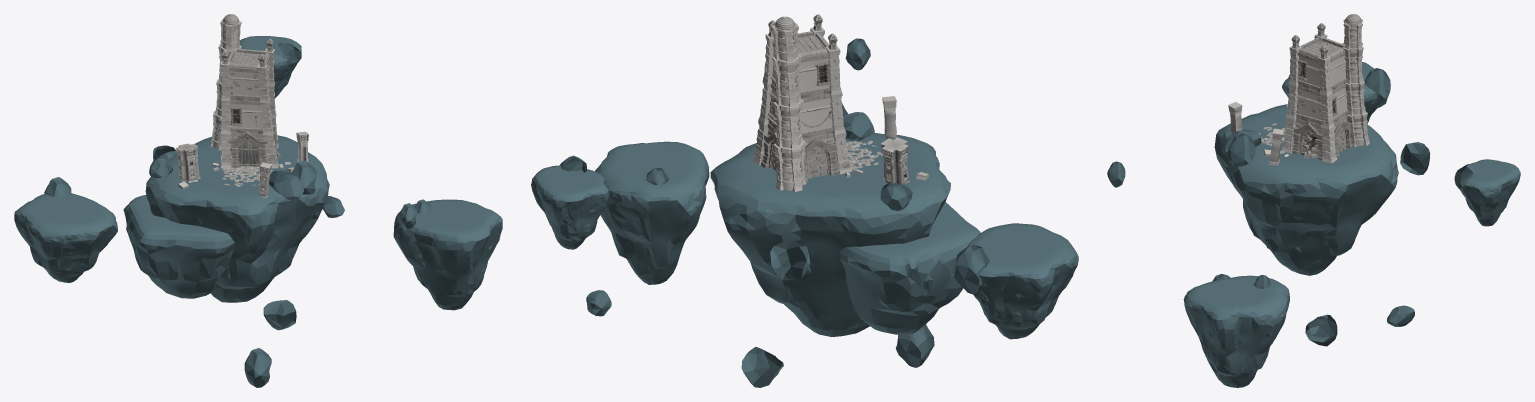
File: m_floatingCastle.fbx
3 views of the same model, side by side, from view 1: azimuth 30°, elevation 25°; view 2: azimuth 150°, elevation 25°; view 3: azimuth 270°, elevation 25° (orthographic). The views are drawn at different scales.
Visible parts, largest first — view 1: flyingRuins; view 2: flyingRuins; view 3: flyingRuins.
Part boxes in pixels (x1,y1,x2,y2): flyingRuins: (14,14,502,387); flyingRuins: (531,14,1078,387); flyingRuins: (1107,14,1520,387).
Size of the model in its own units: 136 by 98.46 by 116.
